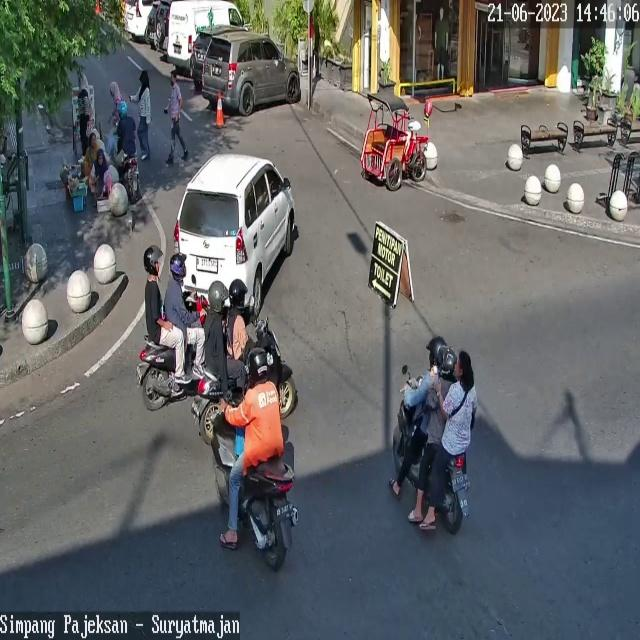bus: (212, 386, 300, 571), (191, 317, 298, 442), (393, 374, 471, 536), (137, 294, 211, 412)
motorcycle: (174, 153, 296, 315), (202, 31, 302, 115), (166, 0, 245, 67), (191, 28, 213, 80), (123, 0, 152, 36)
